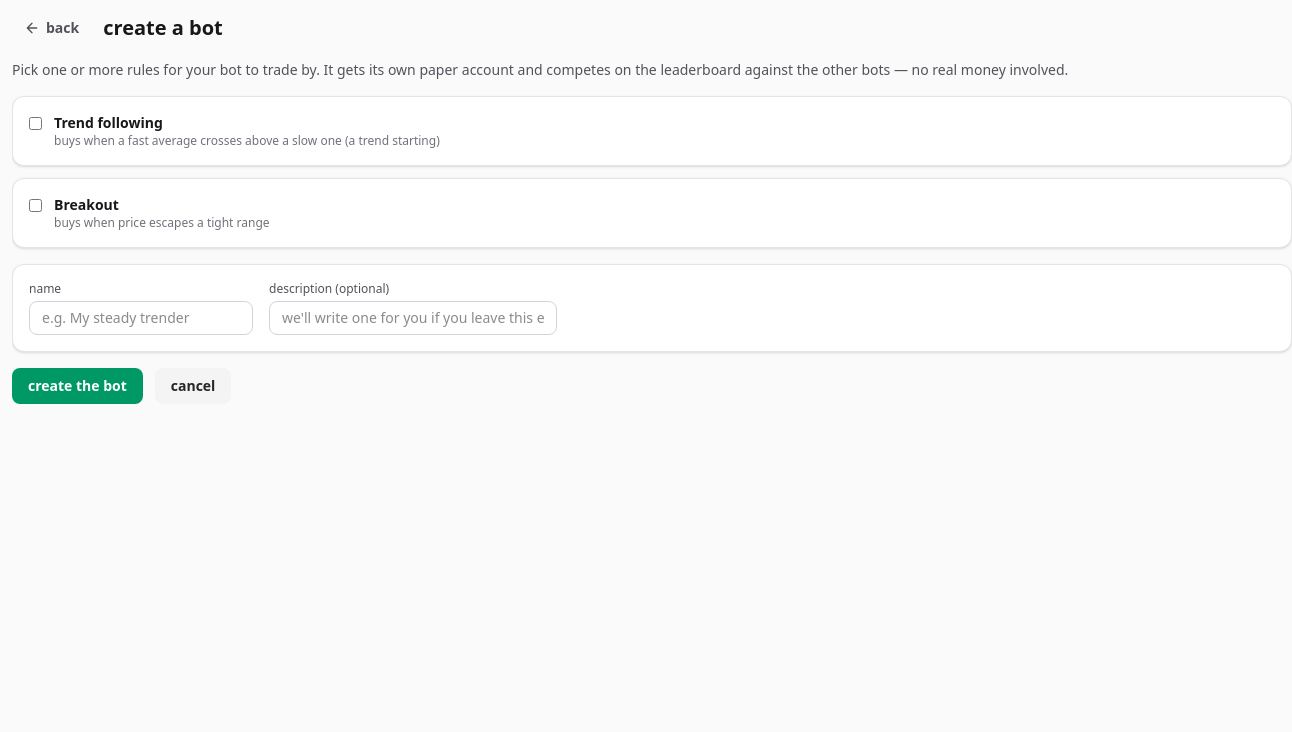
BotBuilderScreen › refuses to submit without a rule and surfaces backend details
Check: the text "Trend following" is shown, box [54,113,163,132]
Click the button "create the bot": (77, 386) [12,368,143,404]
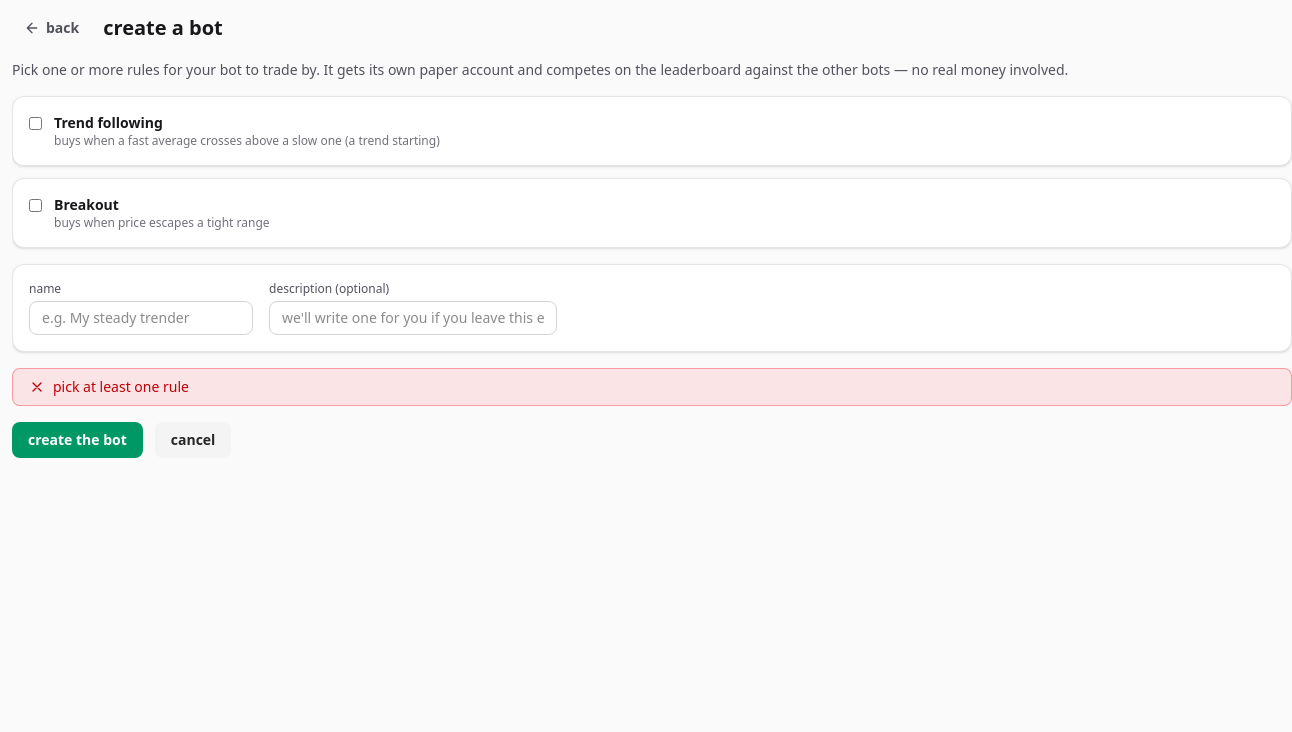
Check: the text "pick at least one rule" is shown, box [53,377,189,397]
Click the checkbox labelled "Trend following": (36, 124) [29,117,42,130]
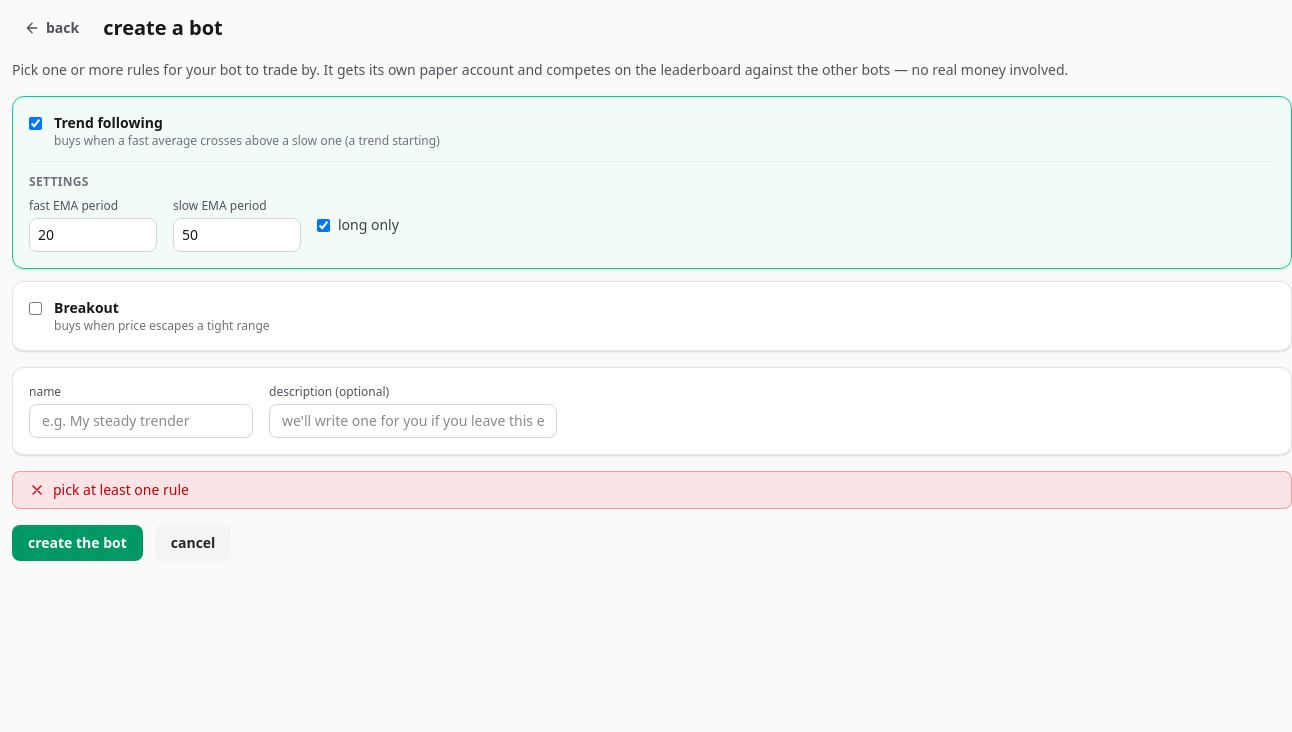
In the field labelled "name": (141, 421) [29,404,253,438], type "Taken"
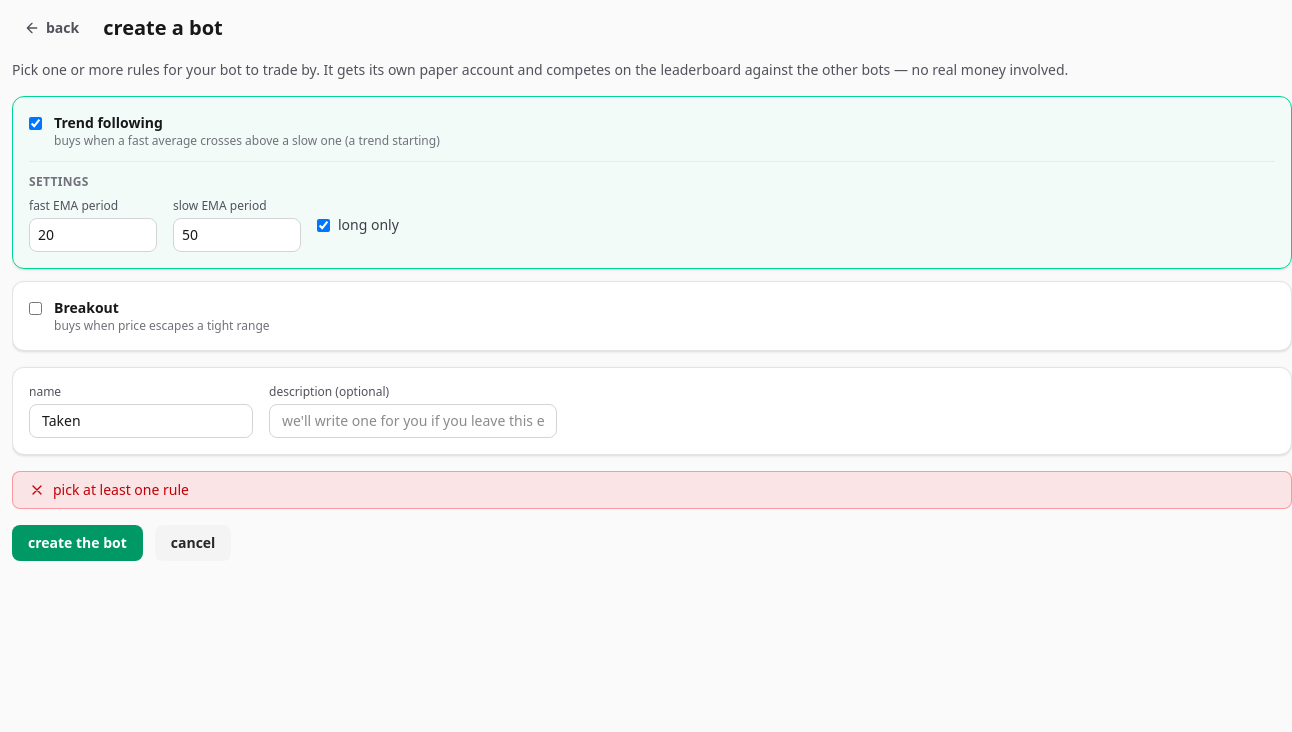
Click the button "create the bot": (77, 543) [12,525,143,561]
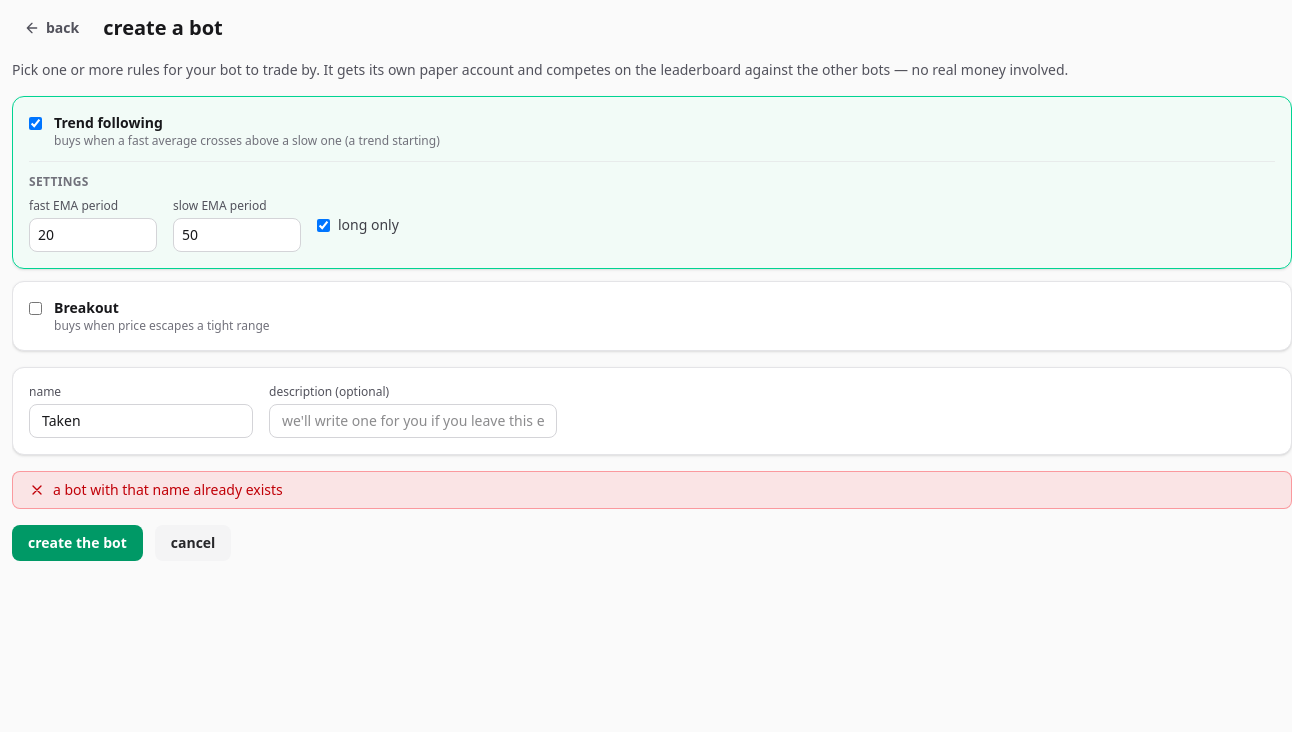
Check: the text "a bot with that name already exists" is shown, box [53,480,283,500]
